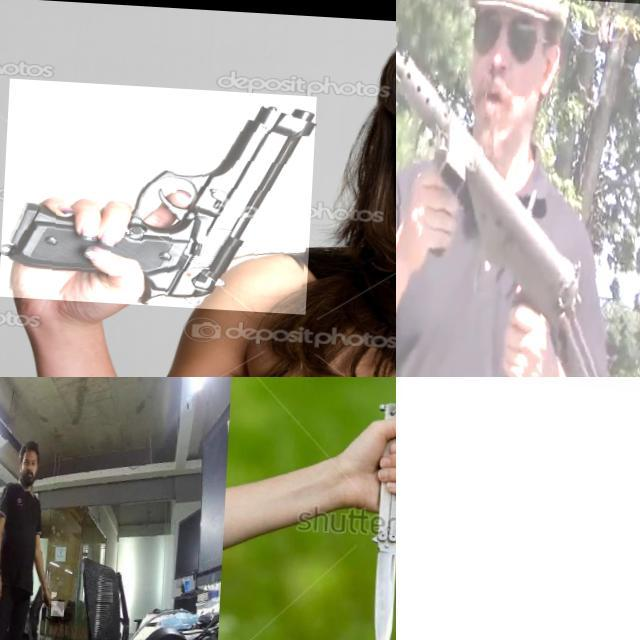-: (396, 377, 640, 640), (353, 418, 396, 640), (54, 599, 68, 615)
gun-knife-thesis - v11 Yolov5 augmented: (396, 0, 640, 377), (2, 78, 318, 311)
